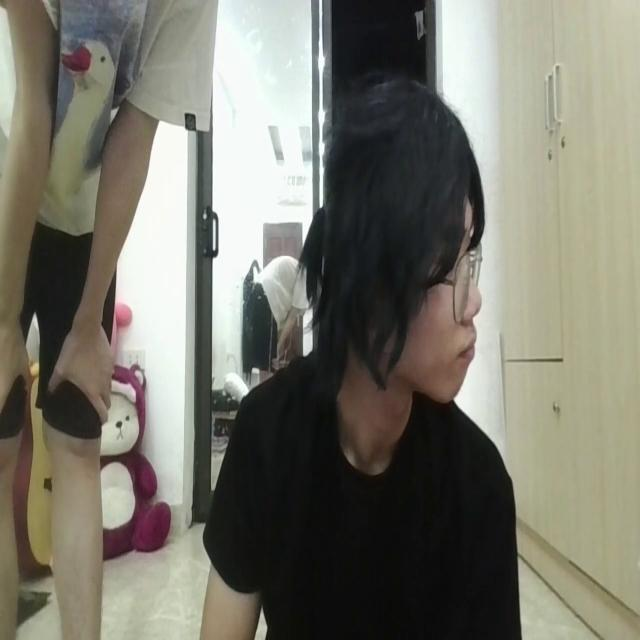extra_person: (0, 2, 200, 640)
student: (192, 71, 518, 640)
